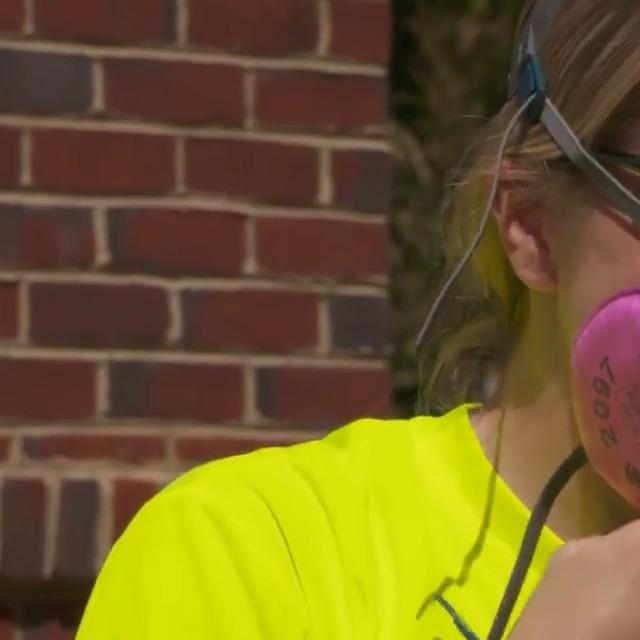NO-Hardhat: (524, 0, 640, 150)
NO-Safety Vest: (244, 402, 640, 640)
Person: (64, 0, 640, 640)
